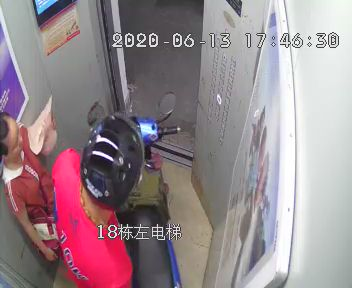Electric-bicycle: (85, 90, 179, 288)
